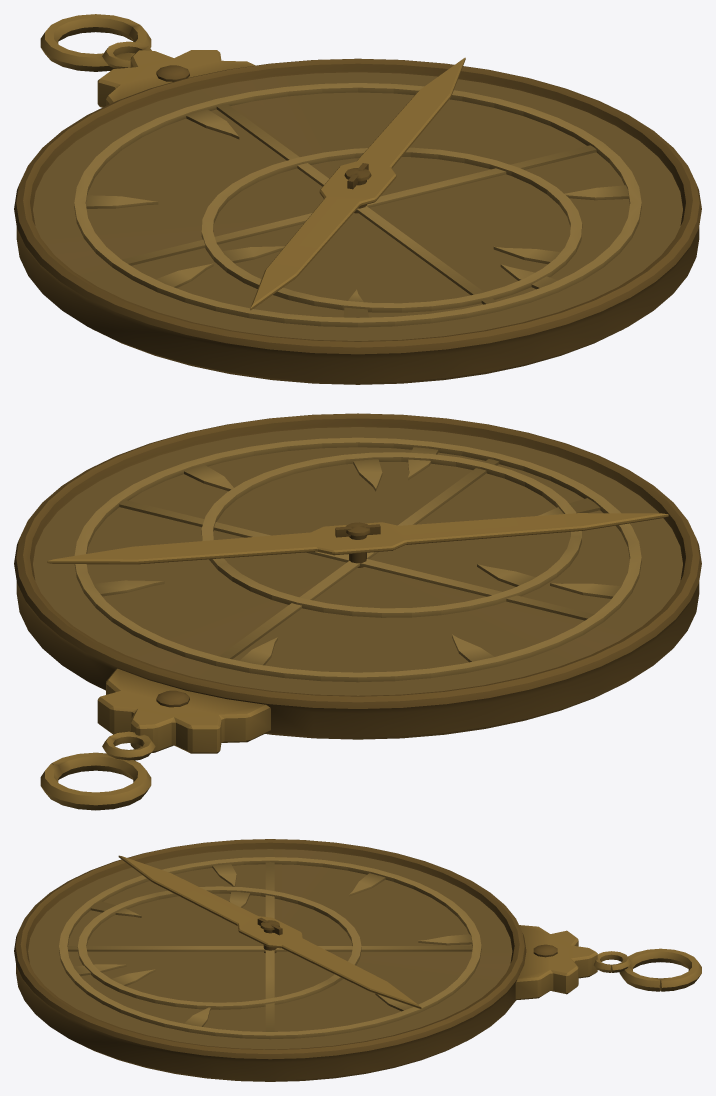
The model's file is astrolabe.glb.
3 renders of one model, top to bottom at view 1: azimuth 30°, elevation 25°; view 2: azimuth 150°, elevation 25°; view 3: azimuth 270°, elevation 25°, orthographic. The views are drawn at different scales.
Parts seen in each view (by area): view 1: tex_face, base, anim_rete; view 2: tex_face, base, anim_rete; view 3: tex_face, base, anim_rete.
Part boxes in pixels (bbox=[...]): tex_face: bbox=[33, 72, 682, 340]; base: bbox=[14, 14, 701, 384]; anim_rete: bbox=[74, 83, 641, 327]; tex_face: bbox=[33, 427, 682, 695]; base: bbox=[14, 413, 701, 810]; anim_rete: bbox=[74, 437, 641, 682]; tex_face: bbox=[28, 849, 512, 1049]; base: bbox=[14, 839, 701, 1081]; anim_rete: bbox=[59, 857, 481, 1039].
Bounding box in the file's own units: 0.1824 × 0.0211 × 0.2449.
